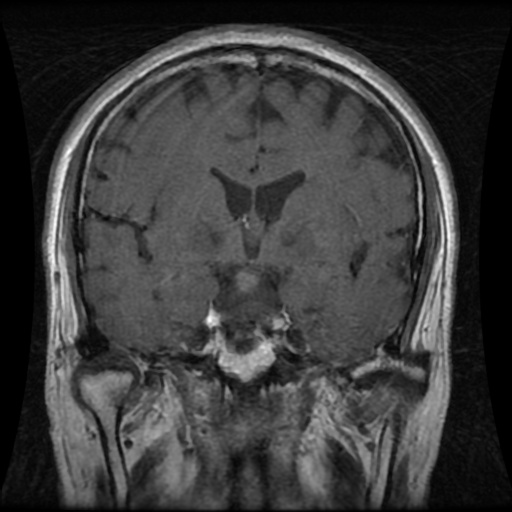pituitary: (210, 269, 282, 378)
